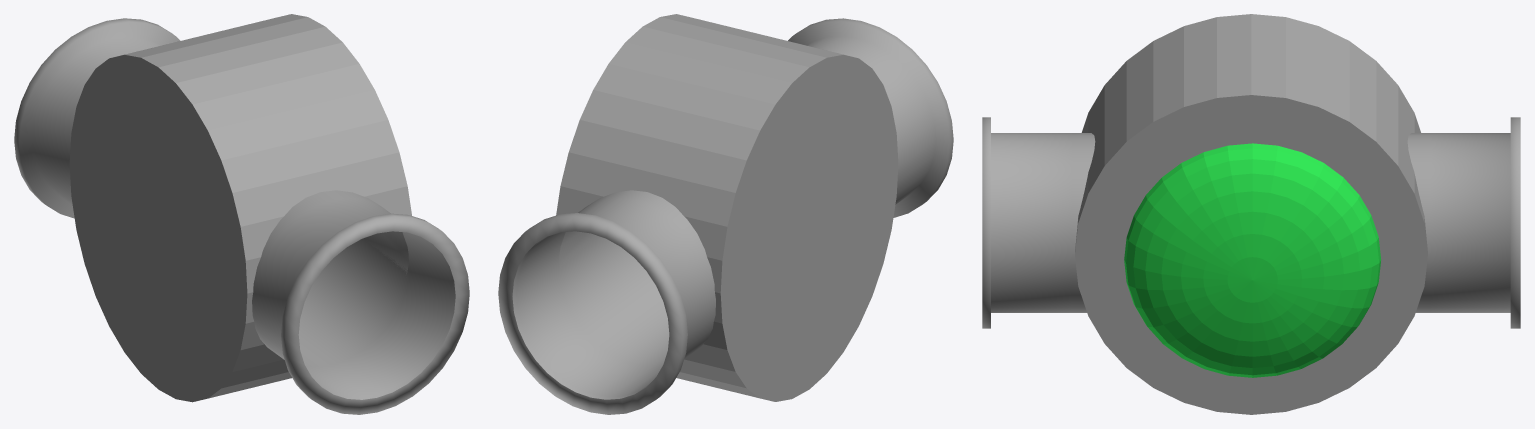
The model's file is OO_Valve_Green.fbx.
3 views of the same model, side by side, from view 1: azimuth 30°, elevation 25°; view 2: azimuth 150°, elevation 25°; view 3: azimuth 270°, elevation 25° (orthographic).
Parts seen in each view (by area): view 1: 0_PipeValveGreen; view 2: 0_PipeValveGreen; view 3: 0_PipeValveGreen.
Boxes of the visible parts, x1,y1,x2,y2 form: 0_PipeValveGreen: (14,14,469,414); 0_PipeValveGreen: (498,14,953,414); 0_PipeValveGreen: (982,14,1520,414).
Size of the model in its own units: 91.65 by 129 by 197.
